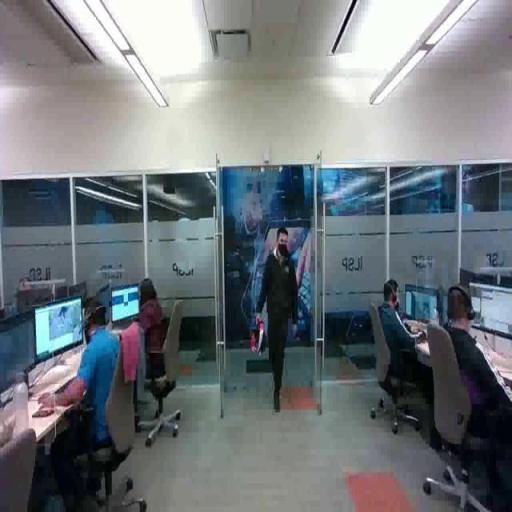person: (48, 292, 136, 511), (435, 282, 512, 505), (252, 227, 307, 423), (371, 279, 438, 418), (123, 277, 175, 412)
